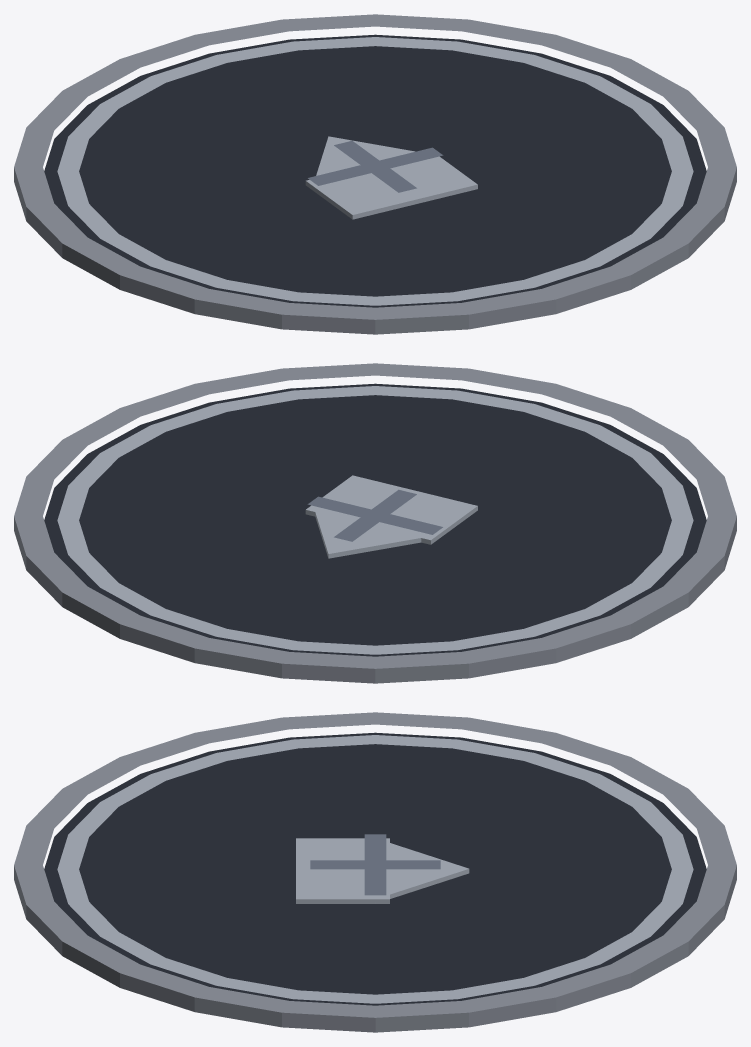
File: shield_knight_common_area.glb
The picture shows the model from 3 angles, top to bottom: view 1: azimuth 30°, elevation 25°; view 2: azimuth 150°, elevation 25°; view 3: azimuth 270°, elevation 25°; orthographic projection.
Visible parts, largest first — view 1: shield_knight_common_area; view 2: shield_knight_common_area; view 3: shield_knight_common_area.
Part boxes in pixels (x1=…): shield_knight_common_area: x1=14, y1=14, x2=736, y2=334; shield_knight_common_area: x1=14, y1=363, x2=736, y2=683; shield_knight_common_area: x1=14, y1=712, x2=736, y2=1032.
Bounding box in the file's own units: 2 × 0.046 × 2.
Materials: 1 (1 with a texture image).
